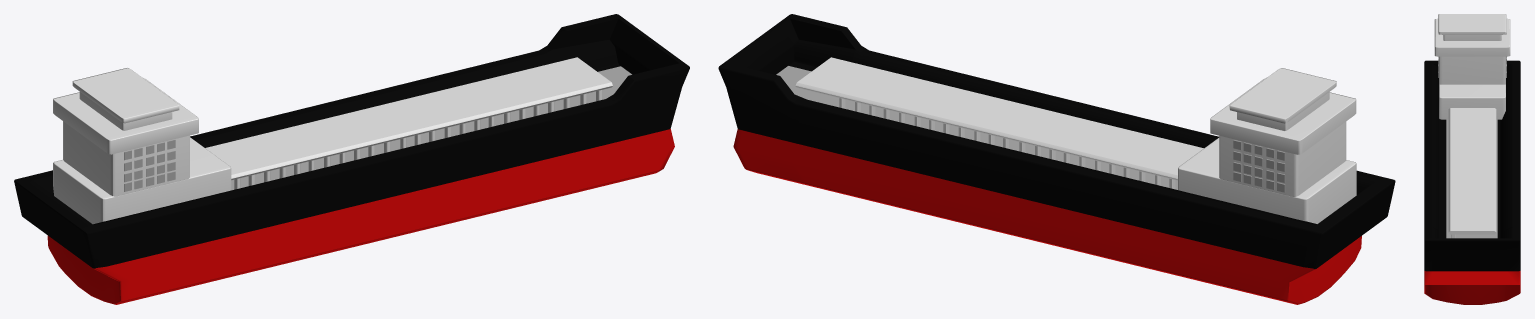
Rendered from Ship_7.fbx.
3 views of the same model, side by side, from view 1: azimuth 30°, elevation 25°; view 2: azimuth 150°, elevation 25°; view 3: azimuth 270°, elevation 25° (orthographic). The views are drawn at different scales.
Parts seen in each view (by area): view 1: Ship_7; view 2: Ship_7; view 3: Ship_7.
Part boxes in pixels (x1,y1,x2,y2): Ship_7: (14,14,689,304); Ship_7: (718,14,1395,304); Ship_7: (1424,14,1520,304).
Bounding box in the file's own units: 7.83 × 2.33 × 1.66.
